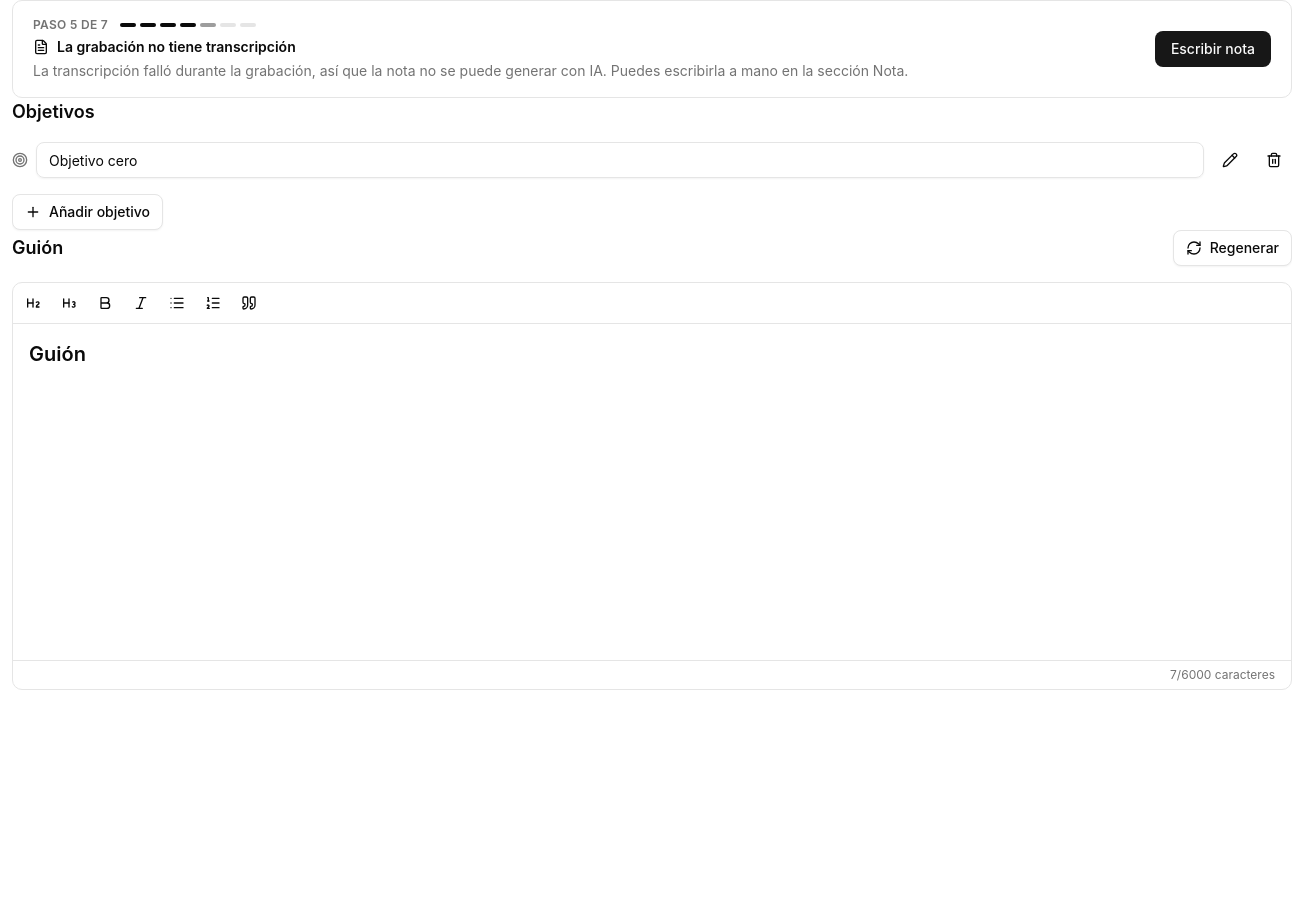
InterviewOnboardingBanner bridge › creates an empty note on "Escribir nota" in the degraded step and the Nota section appears
Click the button with test id "onboarding-step-action" at (1213, 49), box [1155,31,1271,67]
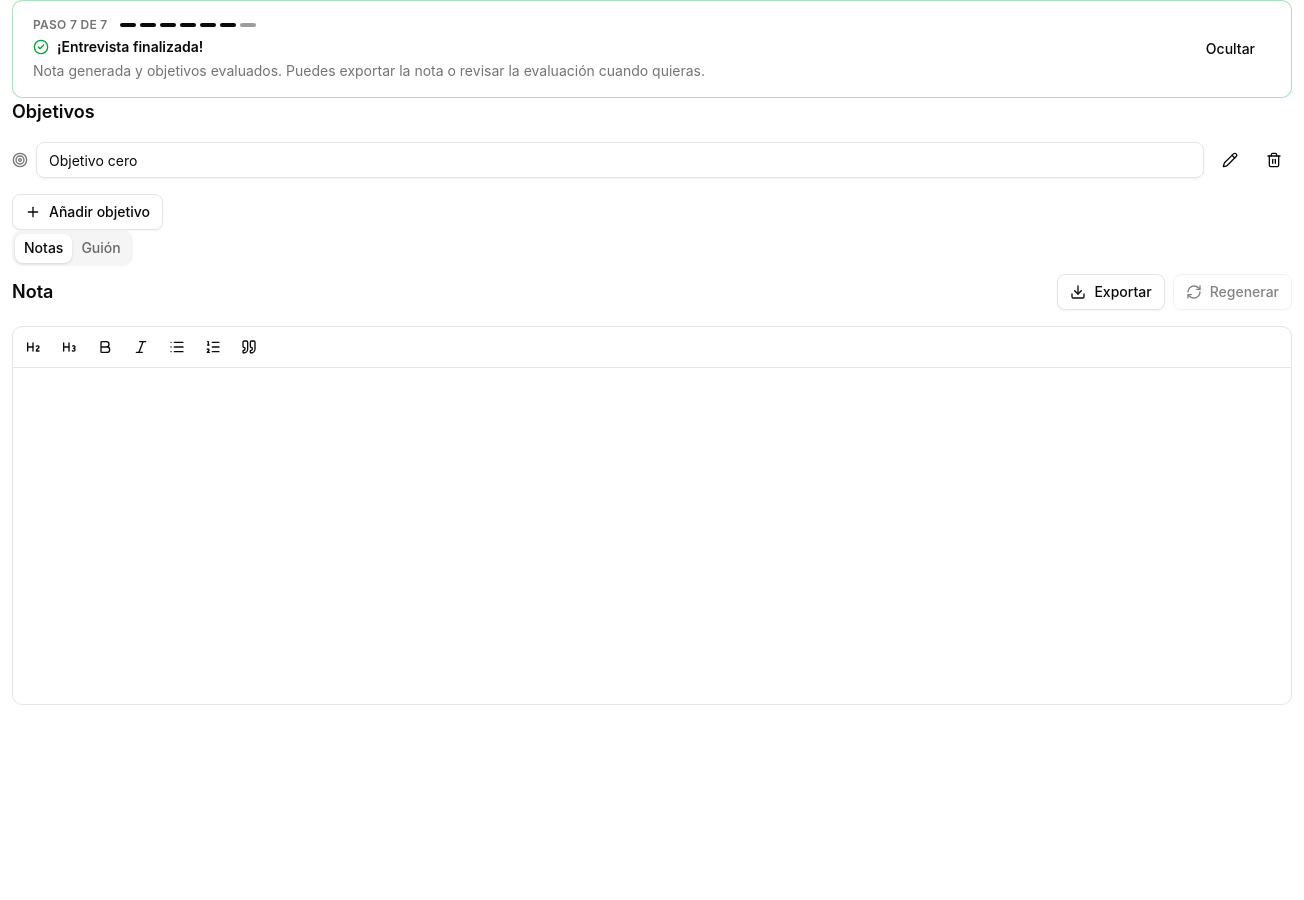
Expected: the heading "Nota" is shown, [12,278,53,306]
Expected: the element with test id "note-markdown-editor" is shown, [12,326,1292,705]
